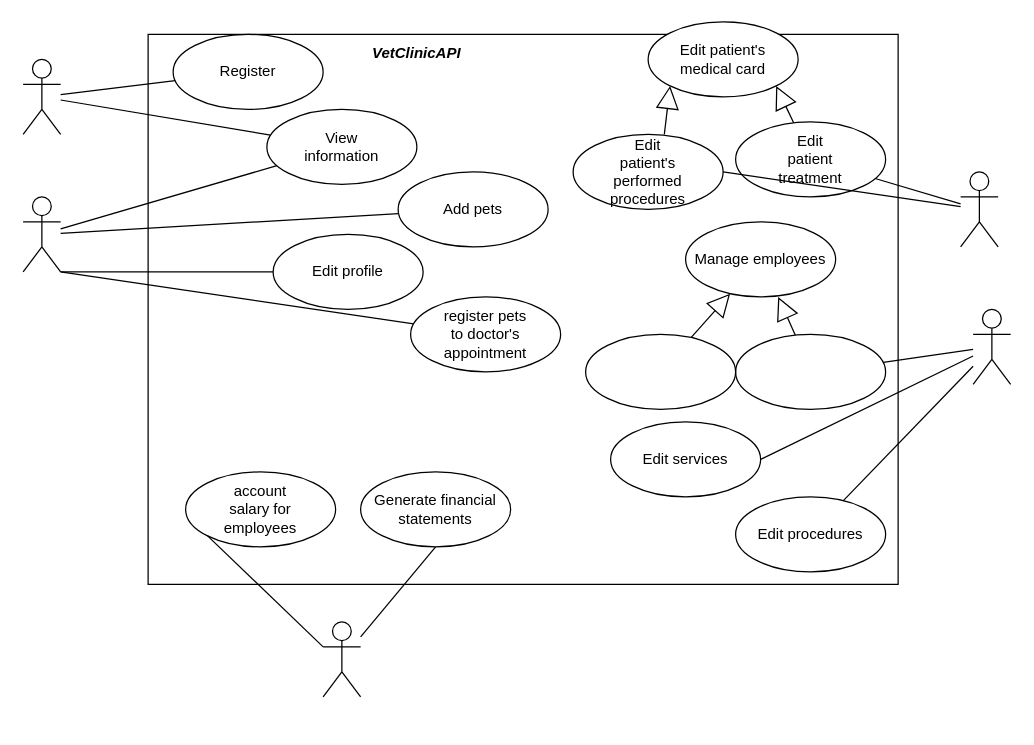
The diagram is 1034 pixels wide and 745 high, and some of its shapes have lost their labels. Here are the shapes that lost their labels. From the top down, the centre of each, then its label:
At [41,96]: "Guest".
At [978,209]: "Doctor".
At [41,234]: "Client".
At [991,346]: "Admin".
At [660,371]: "delete employees".
At [810,371]: "Register new employees".
At [341,659]: "Accountant".
